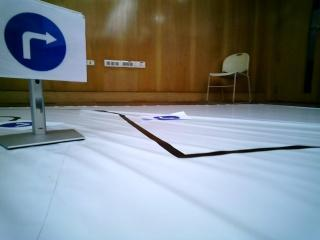right: (0, 0, 88, 82)
